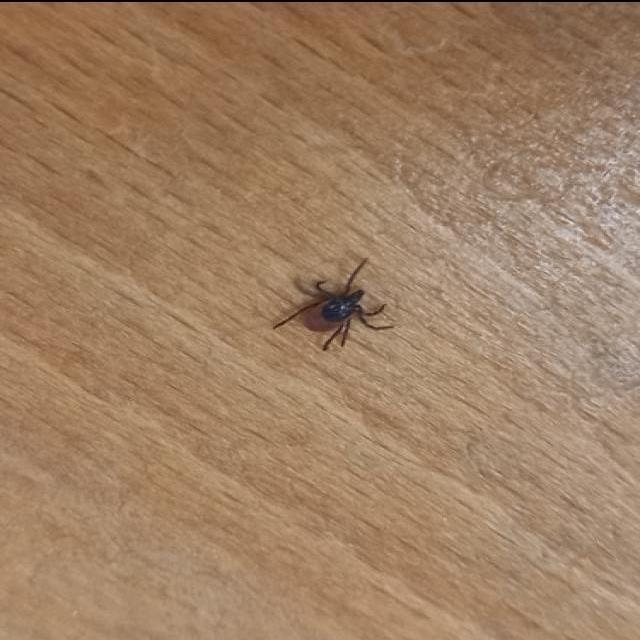Ixodes Ricinus-F: (273, 257, 391, 348)
